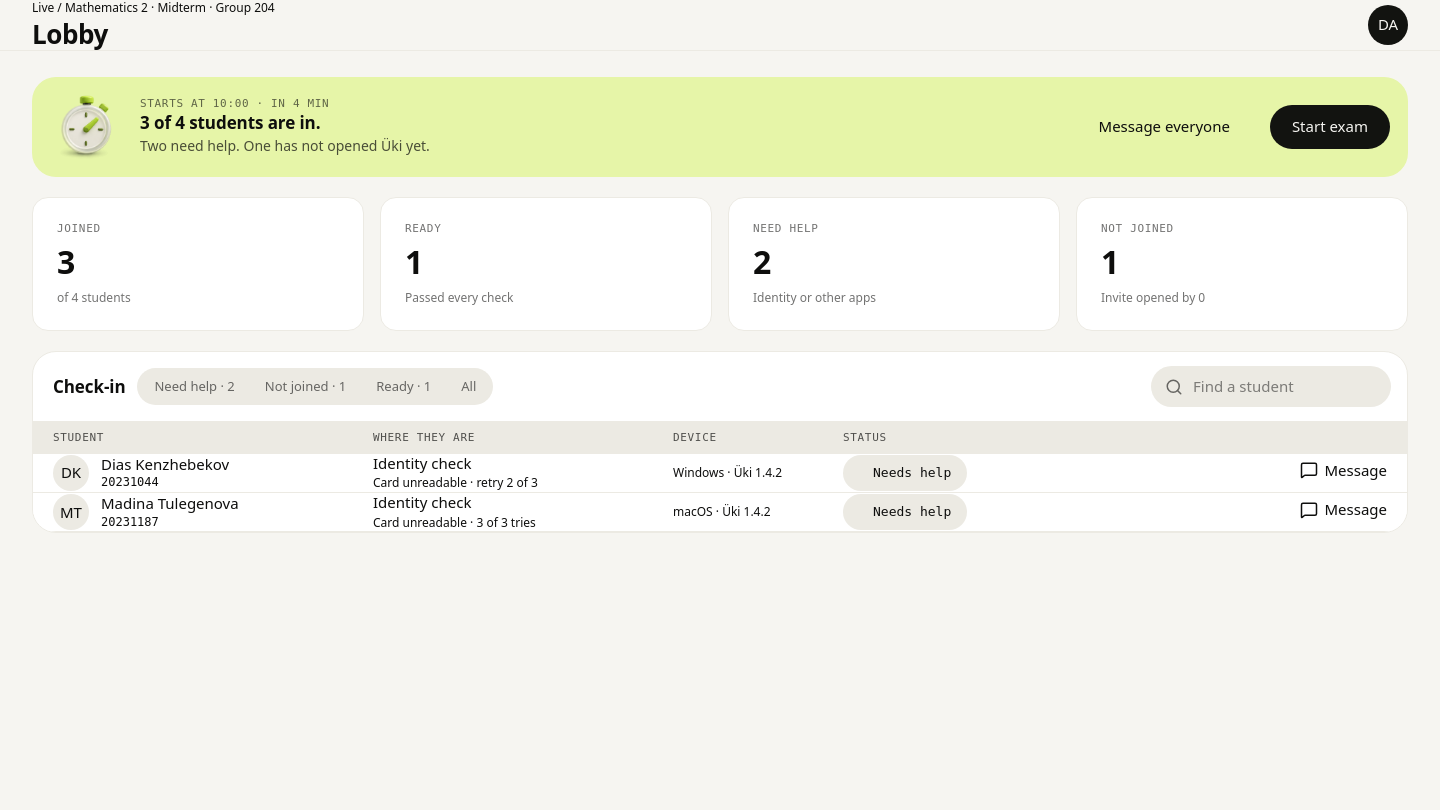
Test: 1.5a Student card › opens on a click of the name, without Identity help for a ready student
Step 1. Click the radio button labelled "All" → (469, 387), box [447,371,490,402]
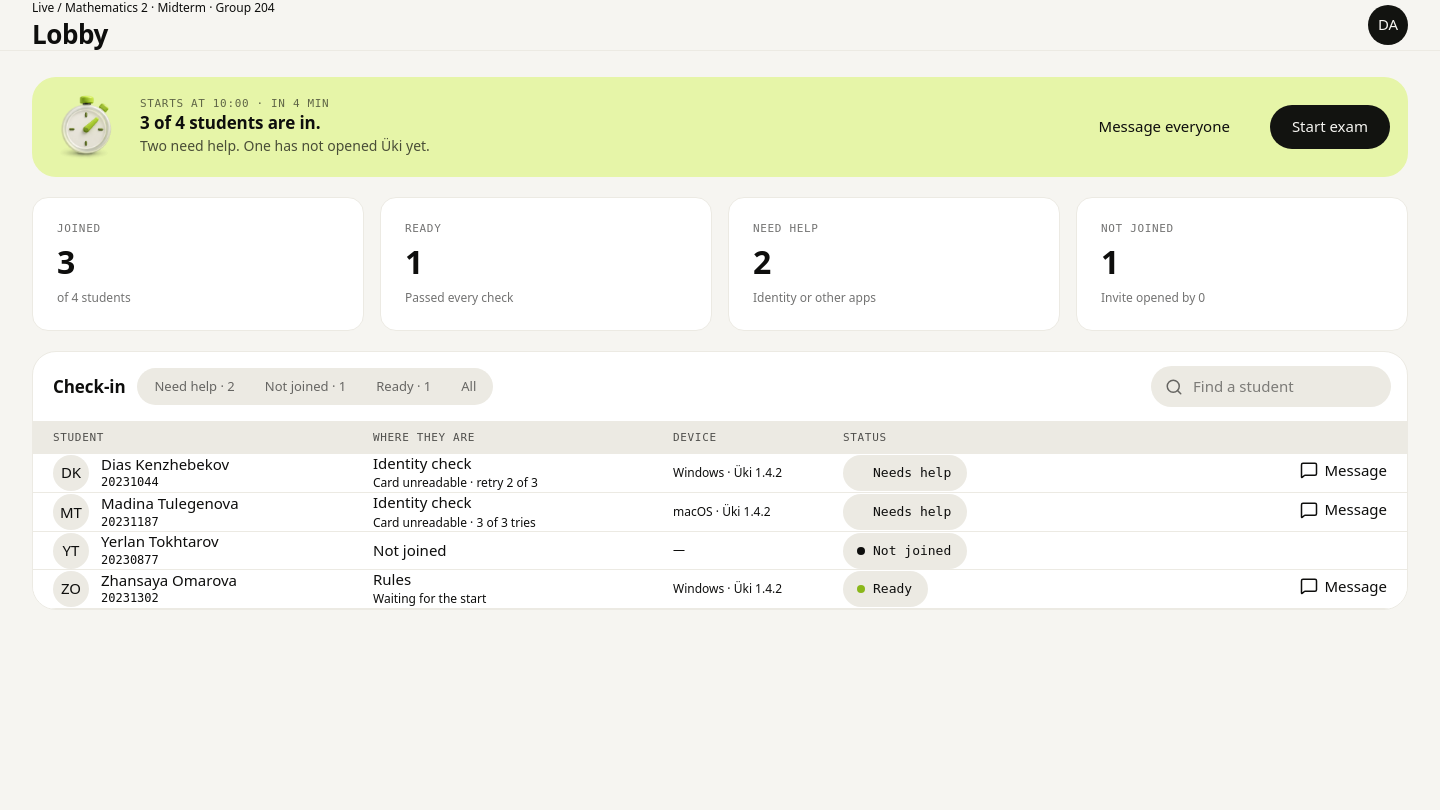
Step 2. Click the button "Zhansaya Omarova" → (169, 581), box [101,571,237,590]
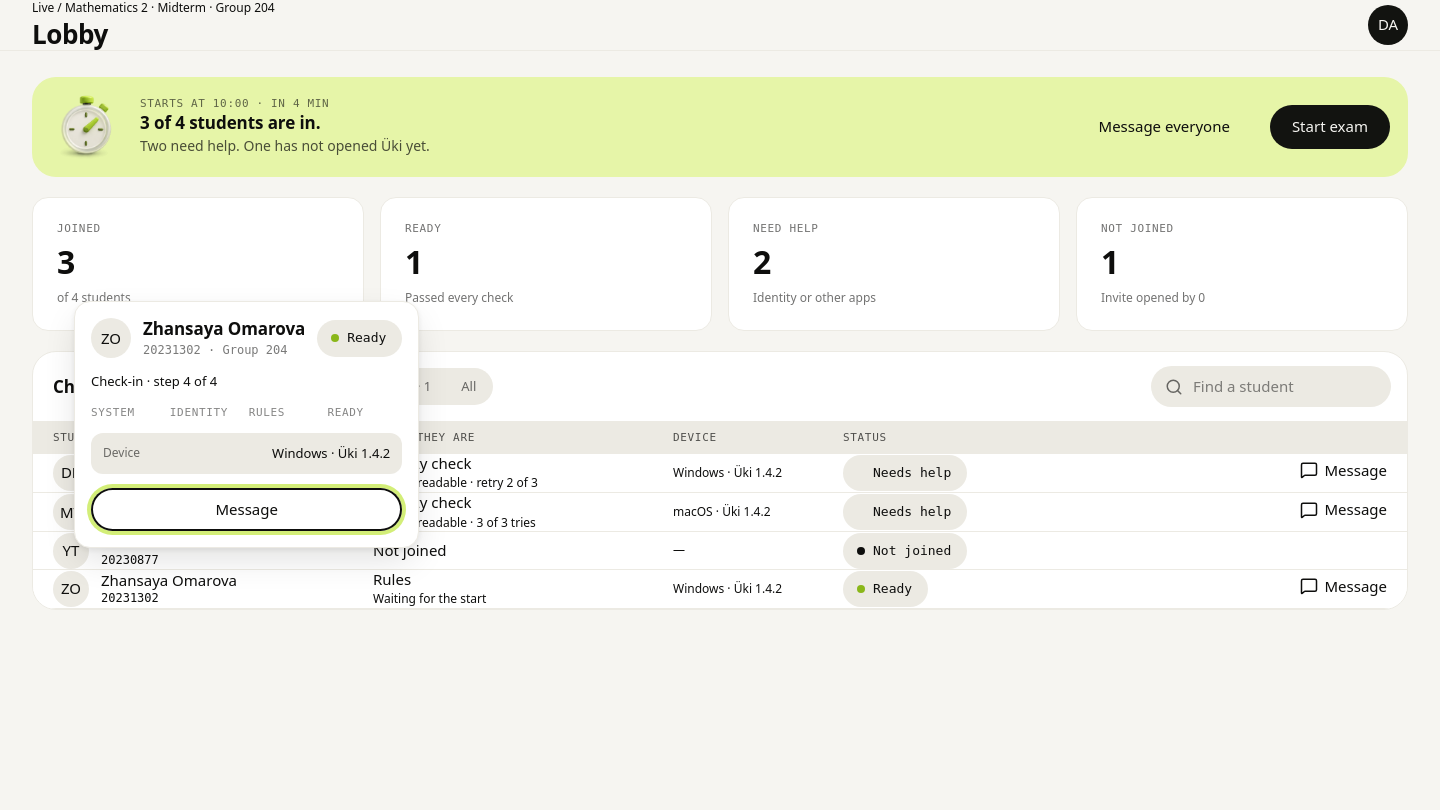
Result: the text "Ready" is shown at [317,320,402,356]
Result: the text "Check-in · step 4 of 4" is shown at [91,372,217,390]
